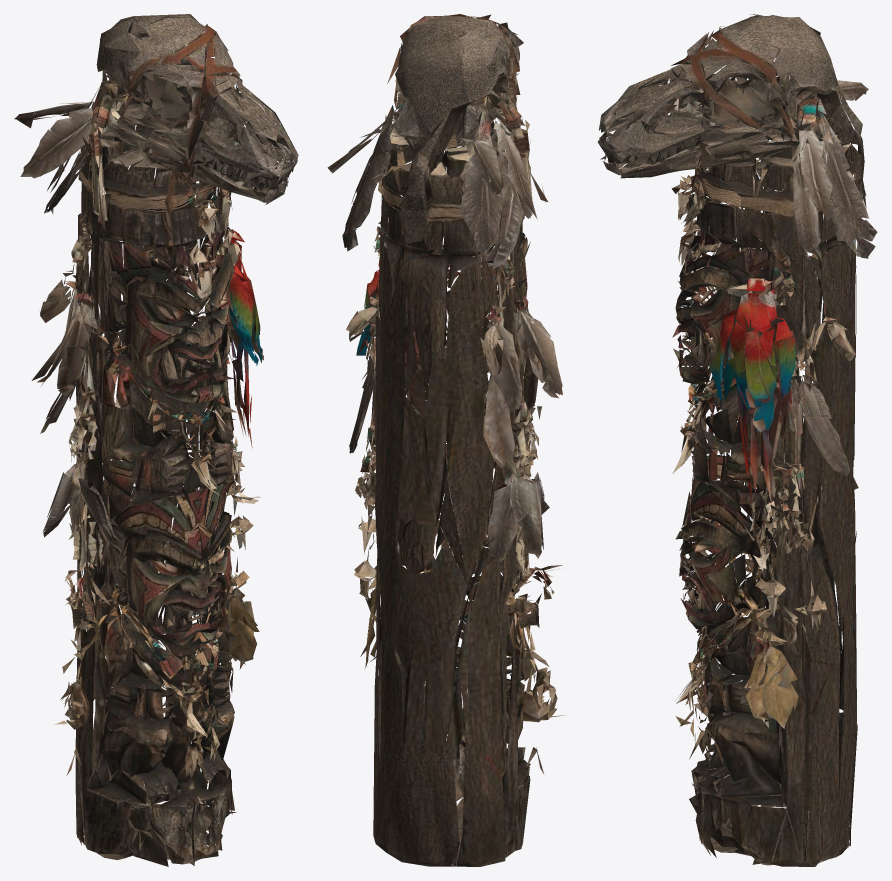
Rendered from troll_totem.glb.
3 renders of one model, left to right at view 1: azimuth 30°, elevation 25°; view 2: azimuth 150°, elevation 25°; view 3: azimuth 270°, elevation 25°, orthographic.
Parts seen in each view (by area): view 1: Mesh_0; view 2: Mesh_0; view 3: Mesh_0.
Boxes of the visible parts, <box> form: Mesh_0: <box>14,14,298,866</box>; Mesh_0: <box>327,14,566,866</box>; Mesh_0: <box>597,14,877,866</box>.
Size of the model in its own units: 0.8859 by 3.2 by 0.9885.
Materials: 1 (1 with a texture image).
